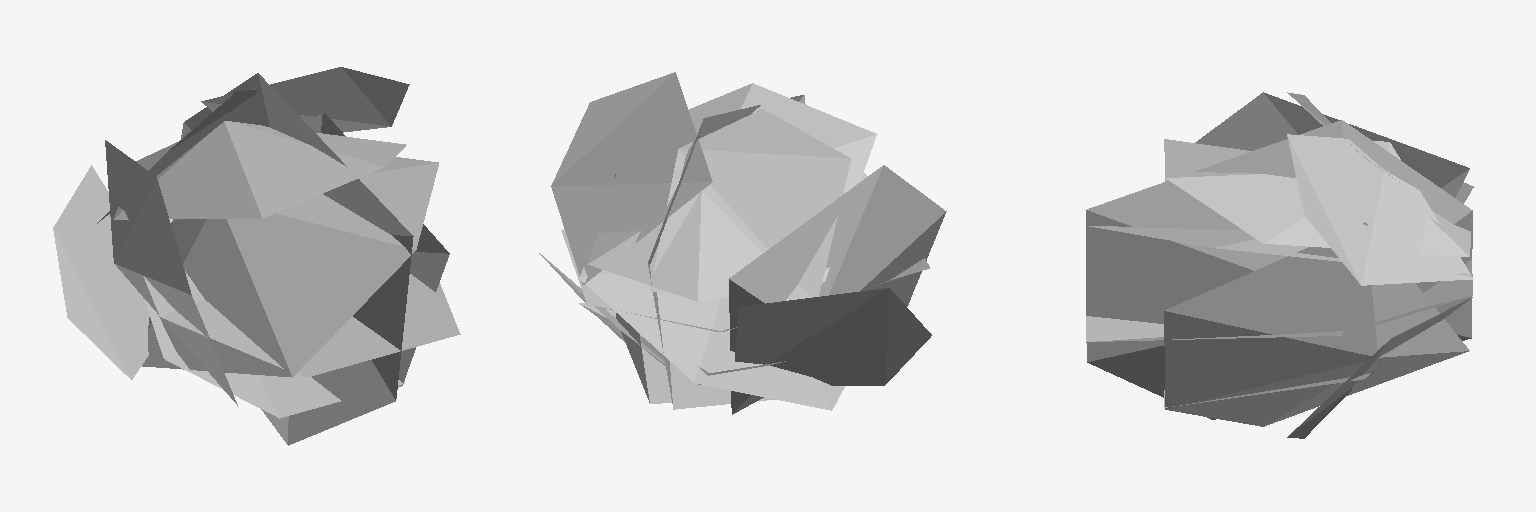
The model's file is yellowBush.obj.
3 renders of one model, left to right at view 1: azimuth 30°, elevation 25°; view 2: azimuth 150°, elevation 25°; view 3: azimuth 270°, elevation 25°, orthographic.
Visible parts, largest first — view 1: YellowBushTwo64; view 2: YellowBushTwo64; view 3: YellowBushTwo64.
Part boxes in pixels (x1,y1,x2,y2): YellowBushTwo64: (53, 67, 460, 445); YellowBushTwo64: (539, 72, 946, 414); YellowBushTwo64: (1086, 92, 1473, 438).
Size of the model in its own units: 4.22 by 3.77 by 4.02.